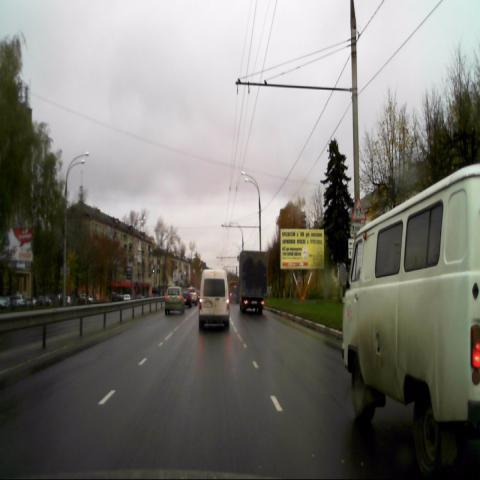1_23: (351, 195, 366, 221)
